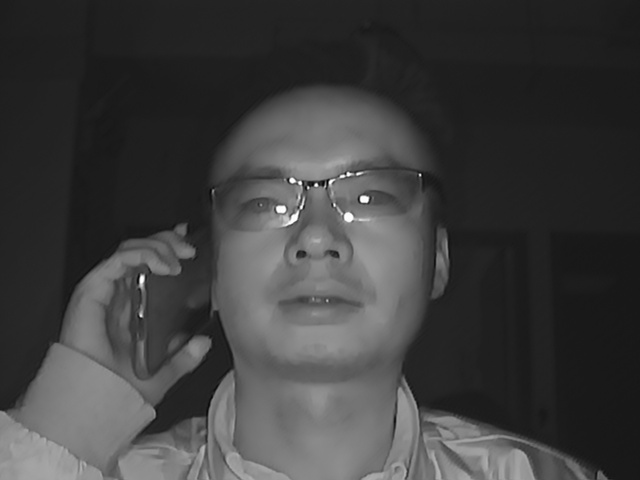hand: (69, 226, 201, 397)
